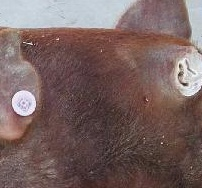text: (5, 83, 49, 124)
